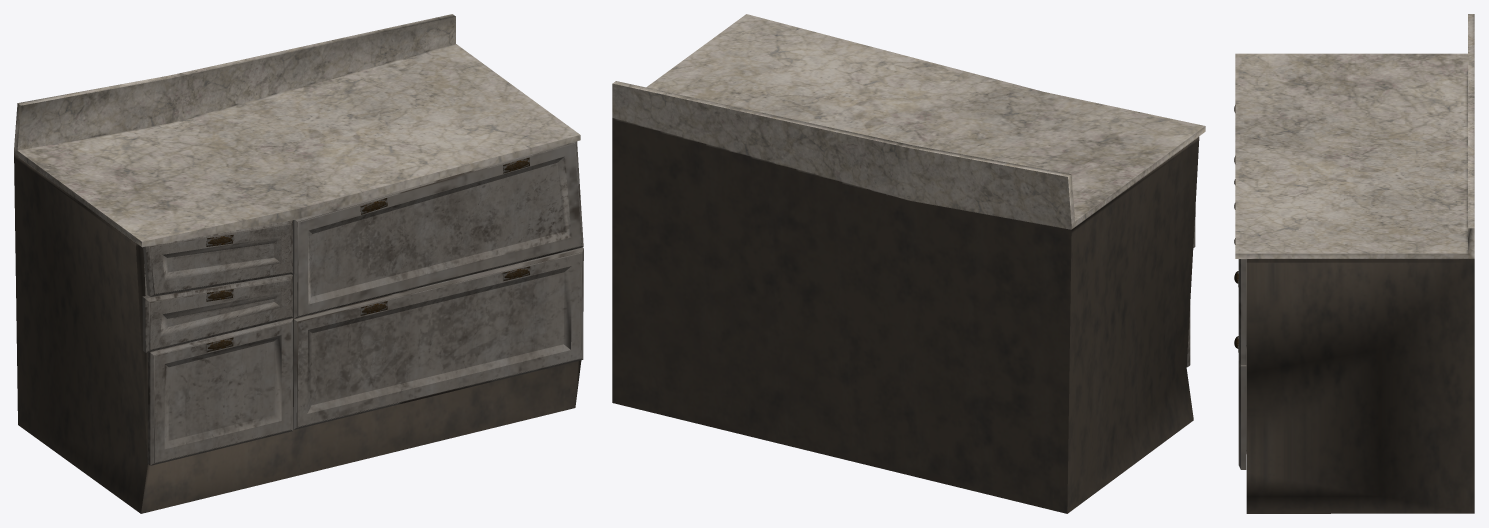
The model's file is Kitchen_2.fbx.
3 renders of one model, left to right at view 1: azimuth 30°, elevation 25°; view 2: azimuth 150°, elevation 25°; view 3: azimuth 270°, elevation 25°, orthographic. The views are drawn at different scales.
Visible parts, largest first — view 1: Object030; view 2: Object030; view 3: Object030.
Boxes of the visible parts, left/top/right/bottom form: Object030: left=14, top=14, right=583, bottom=513; Object030: left=612, top=14, right=1205, bottom=513; Object030: left=1234, top=14, right=1474, bottom=513.
Bounding box in the file's own units: 148 × 102 × 73.8.
